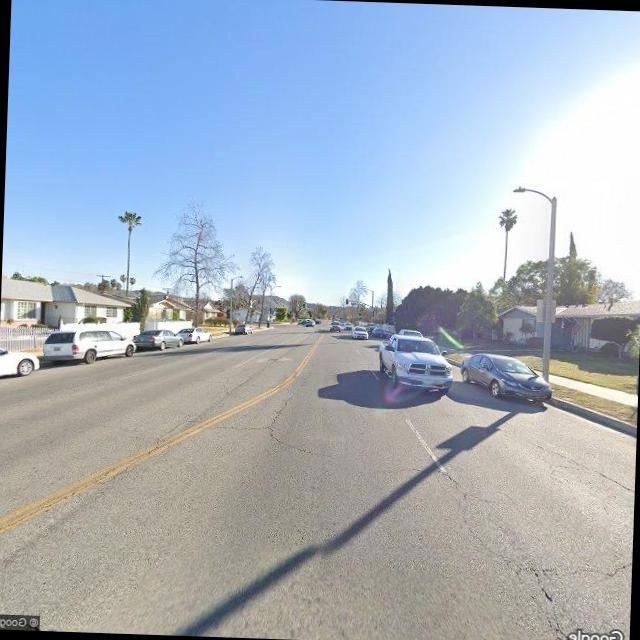crack: (0, 361, 312, 539), (443, 474, 588, 640), (188, 416, 332, 460), (530, 442, 636, 490), (533, 553, 632, 587)
